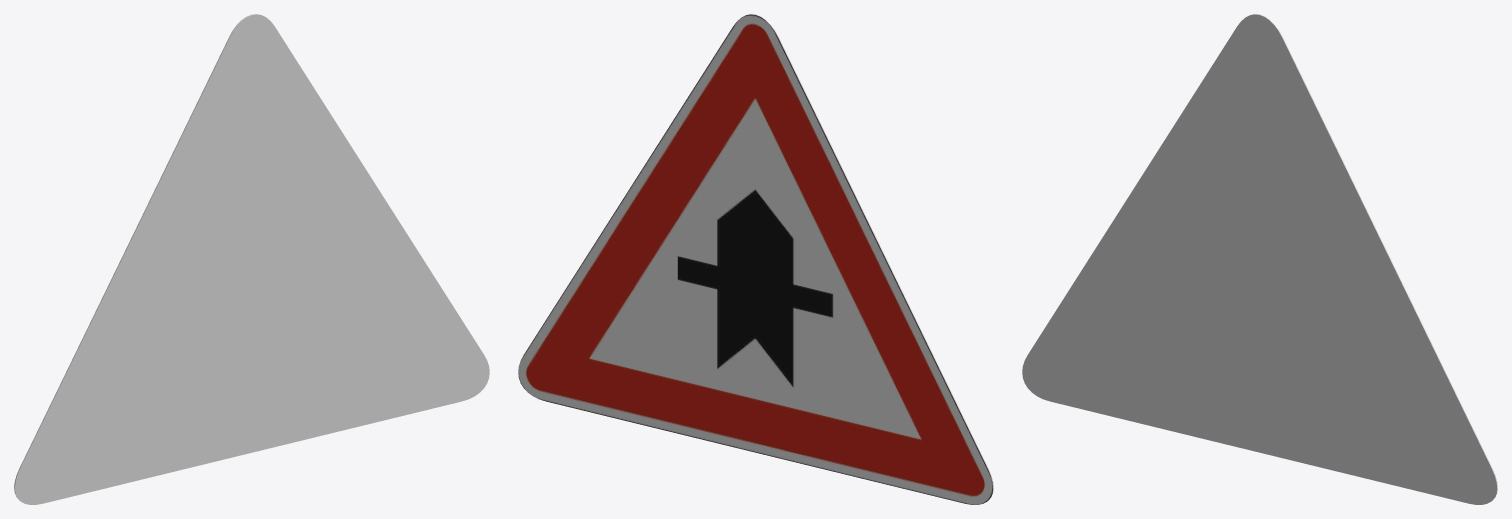
The picture shows the model from 3 angles, left to right: view 1: azimuth 30°, elevation 25°; view 2: azimuth 150°, elevation 25°; view 3: azimuth 330°, elevation 25°; orthographic projection.
Parts seen in each view (by area): view 1: Plane; view 2: Plane; view 3: Plane.
Part boxes in pixels (bbox=[...]): Plane: bbox=[14, 14, 489, 504]; Plane: bbox=[518, 14, 993, 504]; Plane: bbox=[1022, 14, 1497, 504].
Bounding box in the file's own units: 0.8393 × 0.7391 × 0.002.
Materials: 2 (1 with a texture image).
